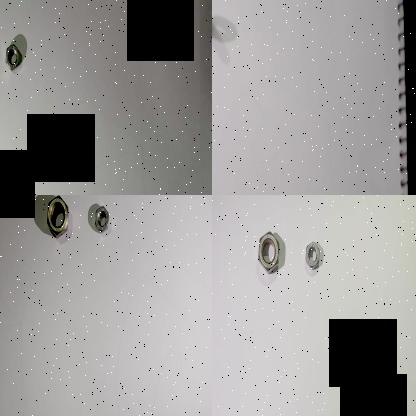NUTS: (257, 224, 282, 280), (43, 195, 73, 240), (303, 238, 325, 274), (2, 44, 24, 74), (93, 201, 111, 235)
